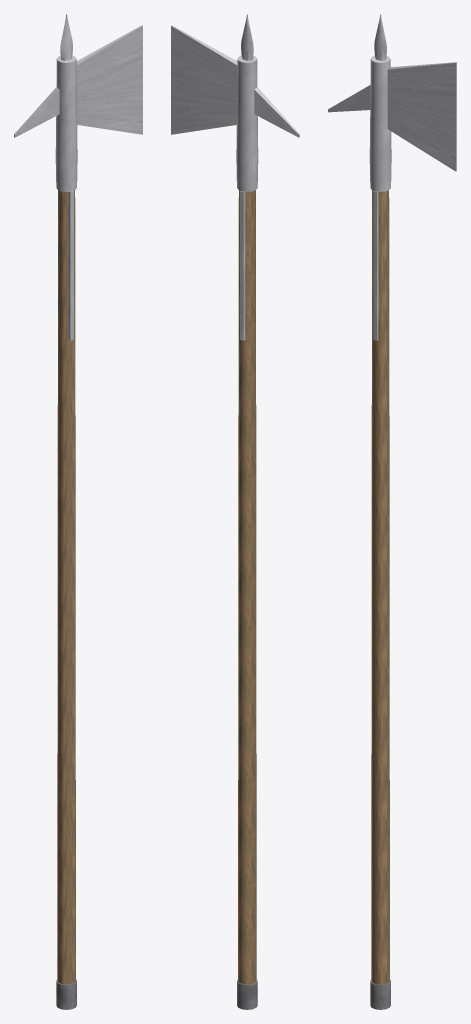
The model's file is halberd.glb.
3 views of the same model, side by side, from view 1: azimuth 30°, elevation 25°; view 2: azimuth 150°, elevation 25°; view 3: azimuth 330°, elevation 25° (orthographic).
Parts seen in each view (by area): view 1: OUT; view 2: OUT; view 3: OUT.
Boxes of the visible parts, x1=… form: OUT: x1=14, y1=14, x2=142, y2=1009; OUT: x1=171, y1=14, x2=299, y2=1009; OUT: x1=328, y1=14, x2=456, y2=1009.
Size of the model in its own units: 0.27 by 2 by 0.04.
3 materials, 3 textured.
